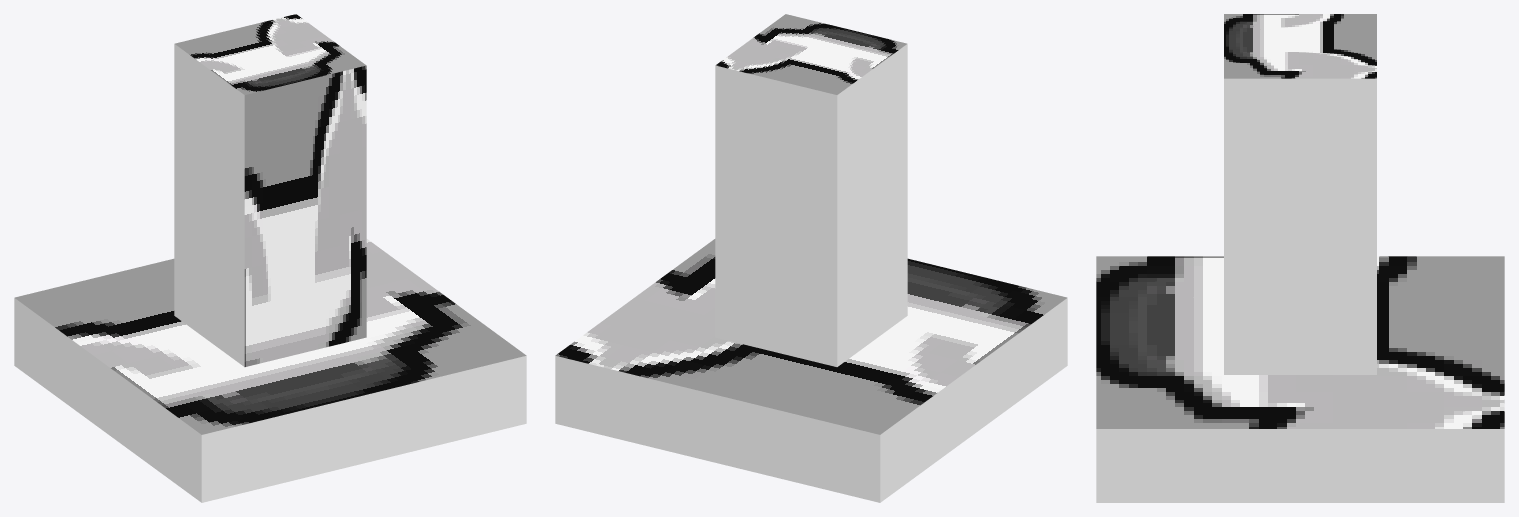
The model's file is Building_BabyDecoration.glb.
3 views of the same model, side by side, from view 1: azimuth 30°, elevation 25°; view 2: azimuth 150°, elevation 25°; view 3: azimuth 270°, elevation 25° (orthographic). The views are drawn at different scales.
Visible parts, largest first — view 1: BabyDecoration; view 2: BabyDecoration; view 3: BabyDecoration.
Boxes of the visible parts, bbox=[...] form: BabyDecoration: bbox=[14, 14, 526, 502]; BabyDecoration: bbox=[555, 14, 1067, 502]; BabyDecoration: bbox=[1096, 14, 1504, 502].
Size of the model in its own units: 0.8 by 0.8 by 0.8.
Materials: 1 (1 with a texture image).
